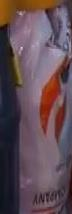cylinder: (1, 0, 72, 214)
